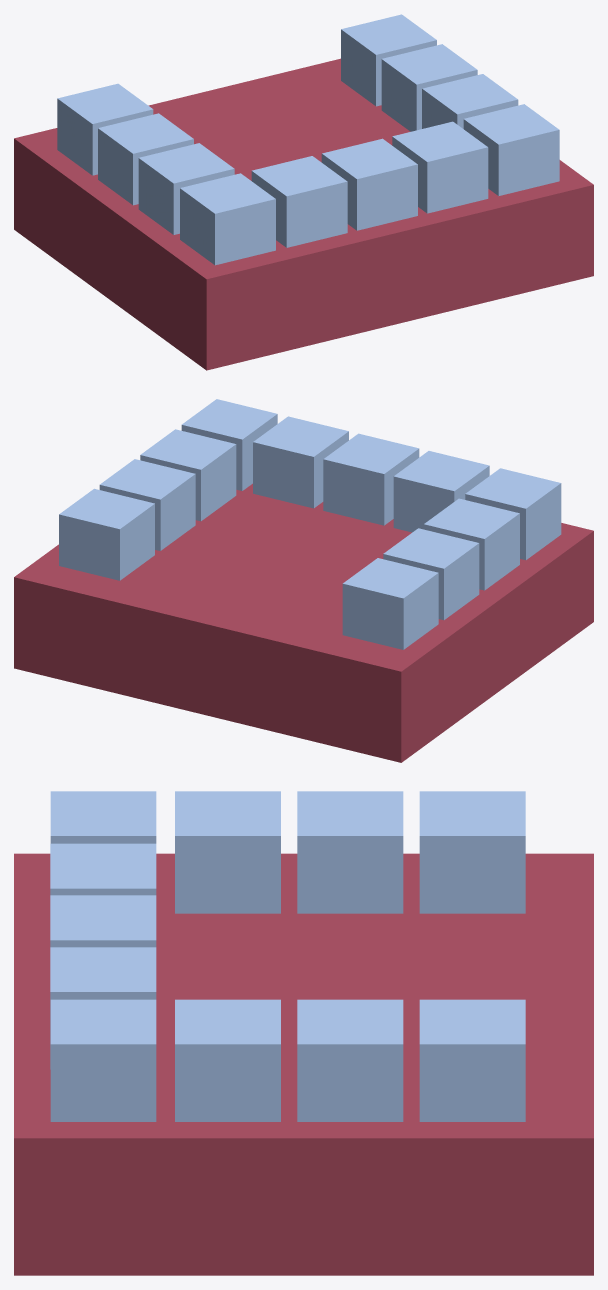
The model's file is 入れ歯.fbx.
3 views of the same model, one above another, from view 1: azimuth 30°, elevation 25°; view 2: azimuth 150°, elevation 25°; view 3: azimuth 270°, elevation 25° (orthographic). The views are drawn at different scales.
Visible parts, largest first — view 1: mqo_mesh; view 2: mqo_mesh; view 3: mqo_mesh.
Part boxes in pixels (<box>): mqo_mesh: <box>14,14,593,370</box>; mqo_mesh: <box>14,399,593,762</box>; mqo_mesh: <box>14,791,593,1275</box>.
Size of the model in its own units: 125 by 44.08 by 108.
